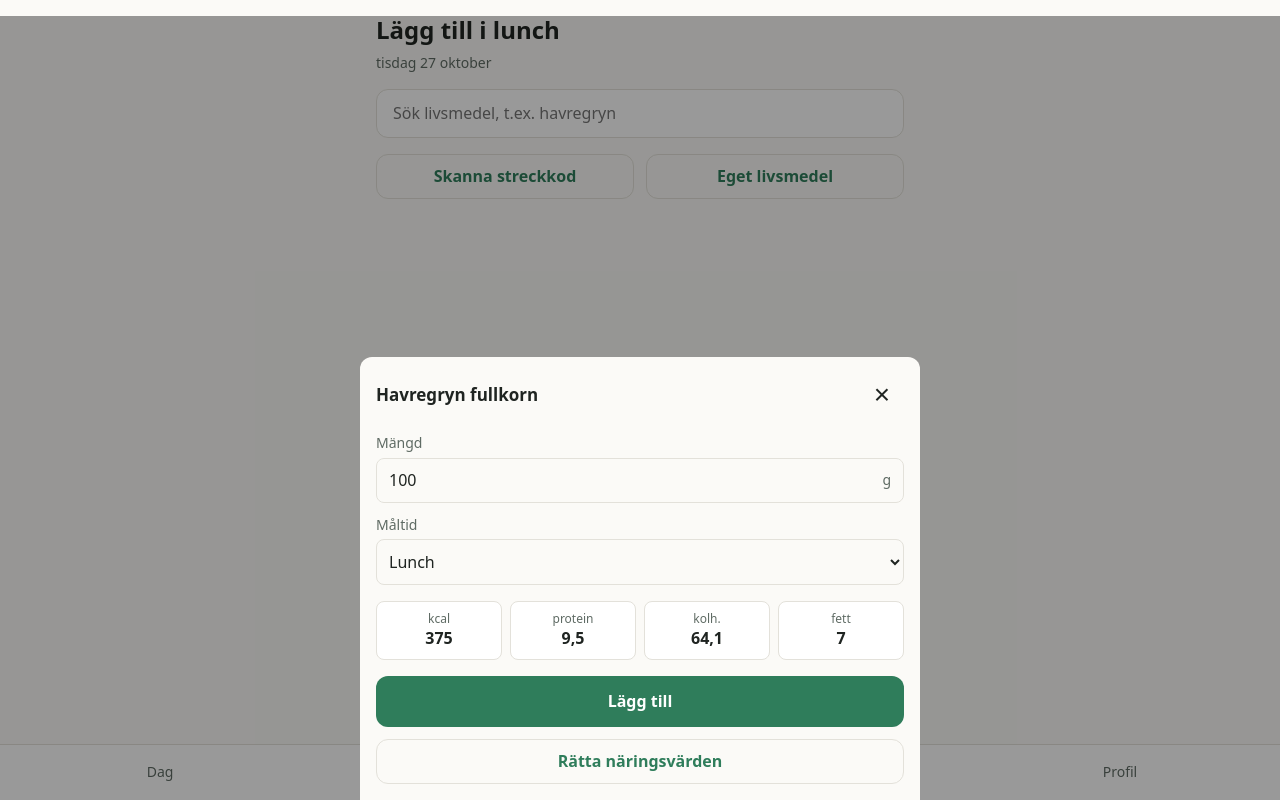
Test case: visar ett fel och låter panelen vara öppen om posten inte går att spara
Click the button "Lägg till": (640, 701) top-left (376, 676), bottom-right (904, 727)
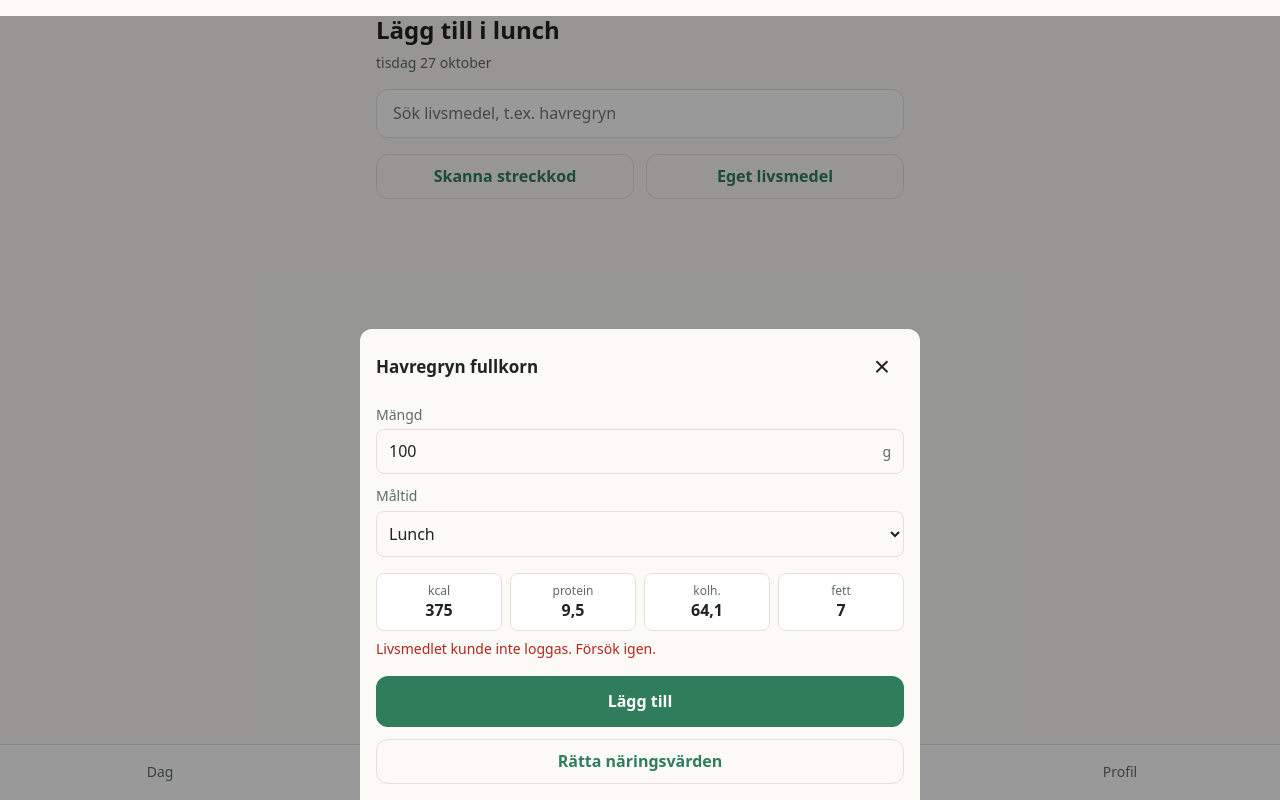
Check: the message reads "Livsmedlet kunde inte loggas. Försök igen.", box top-left (376, 639), bottom-right (656, 658)
Andra försöket lyckas
Click the button "Lägg till": (640, 701) top-left (376, 676), bottom-right (904, 727)
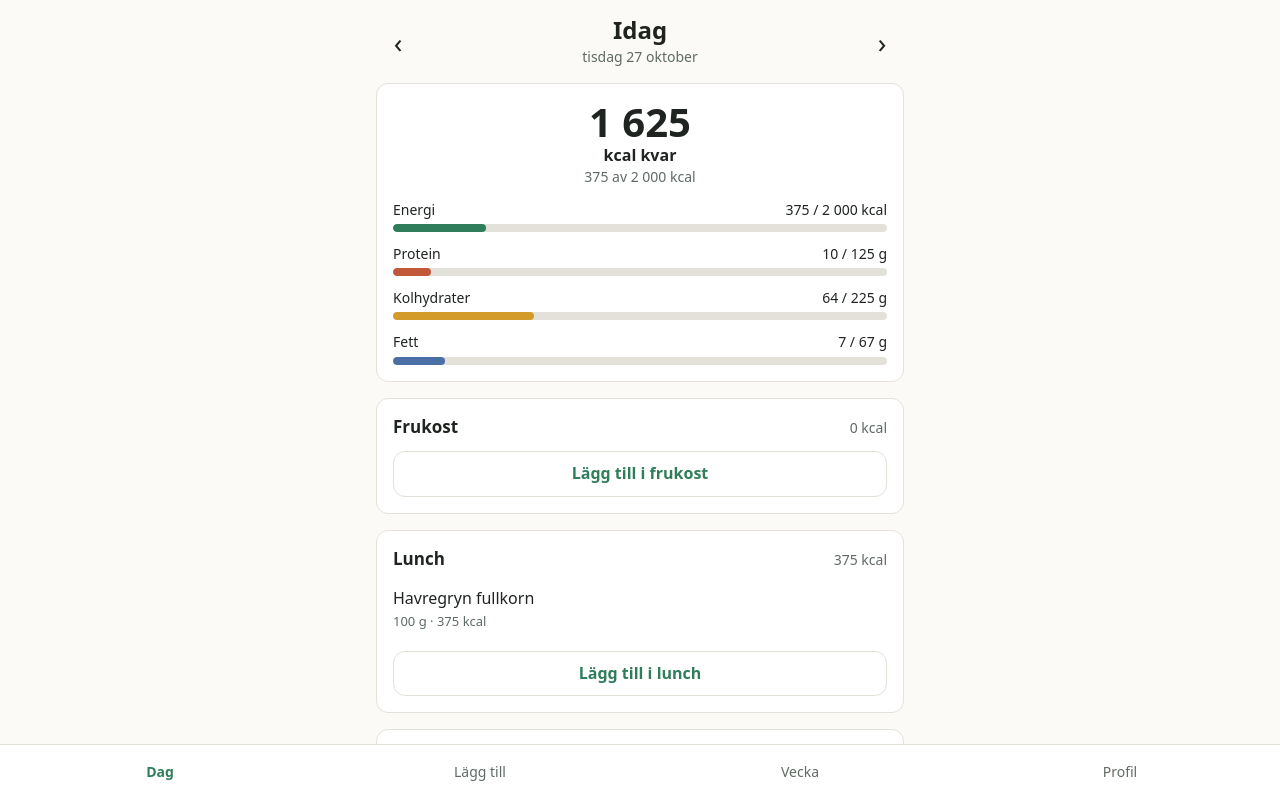
Check: the heading "Idag" is shown, box top-left (613, 13), bottom-right (667, 46)
